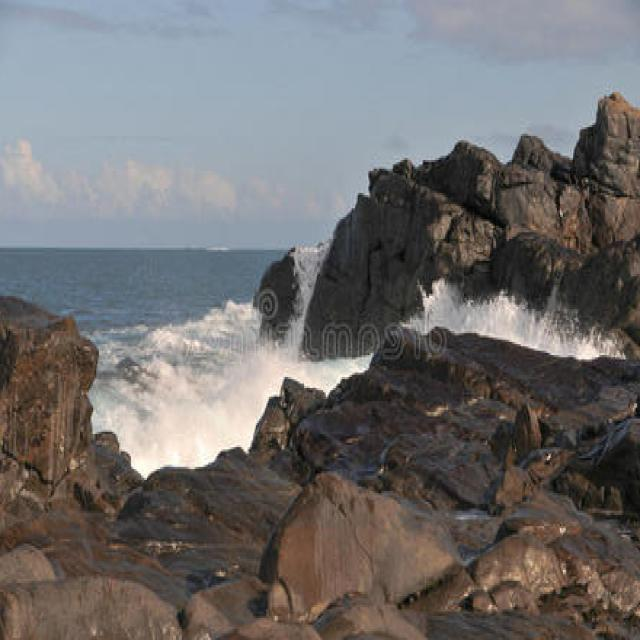reef: (0, 219, 351, 537)
